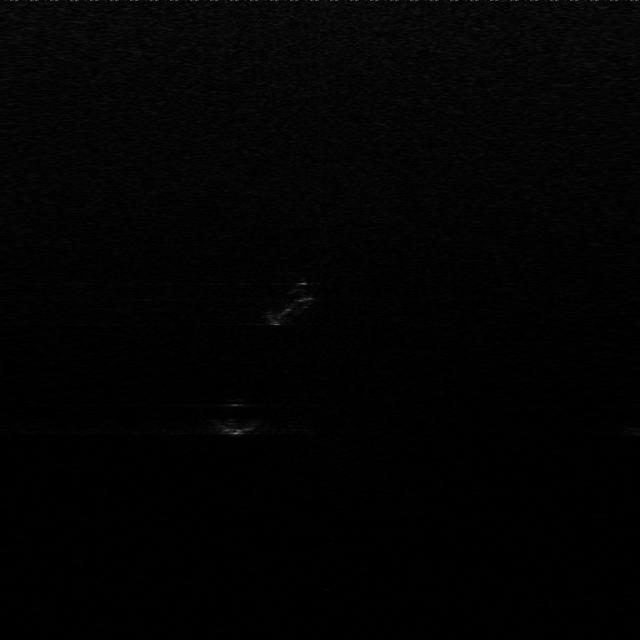ball: (204, 392, 270, 442)
tyre: (252, 280, 323, 330)
